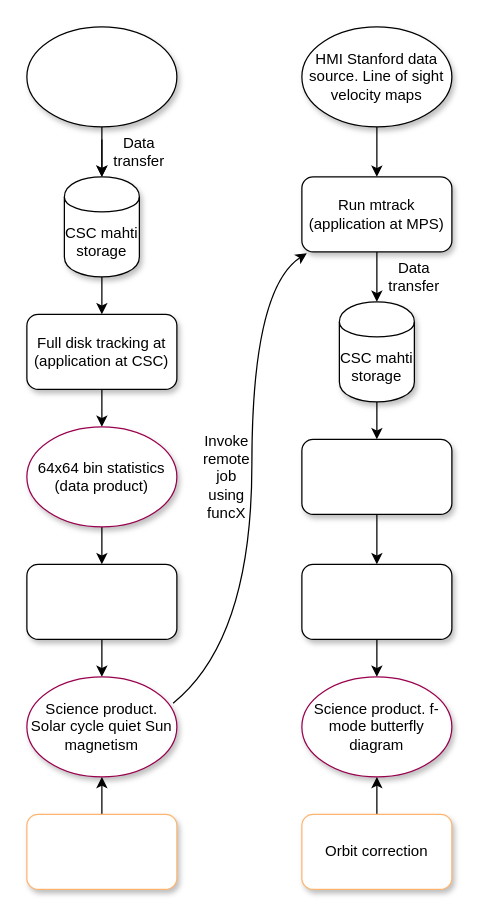
This 481x920 diagram has some shape labels left out. The shapes that lost their labels are listed below. From the top down, each one's centre as x and y in pixels, then its label:
At [102,78]: "HMI Stanford data source. Magnetic field maps".
At [377,478]: "Compute ring diagram cubes (application at CSC)".
At [102,603]: "Most quiet patch selection (application at CSC)".
At [377,603]: "Compute f-mode strength (application at CSC)".
At [102,853]: "2016 HMI mode change correction".
